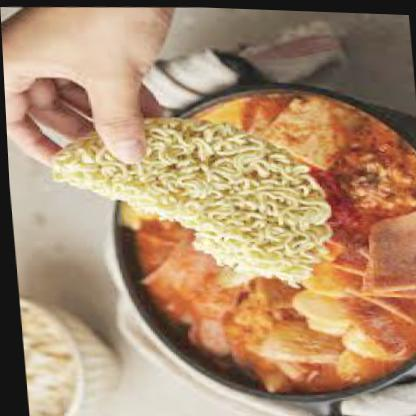budaejjigae: (89, 74, 415, 395)
